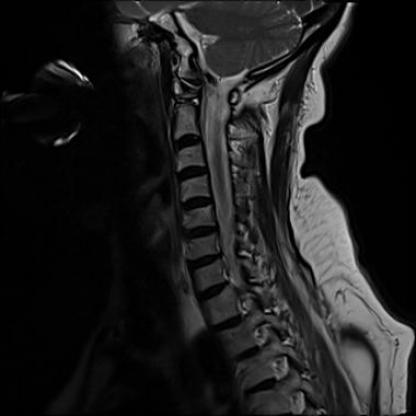Disc Bulgerotation: (185, 252, 224, 273), (179, 224, 220, 243)
